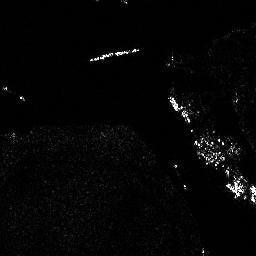ship: (88, 46, 139, 64)
